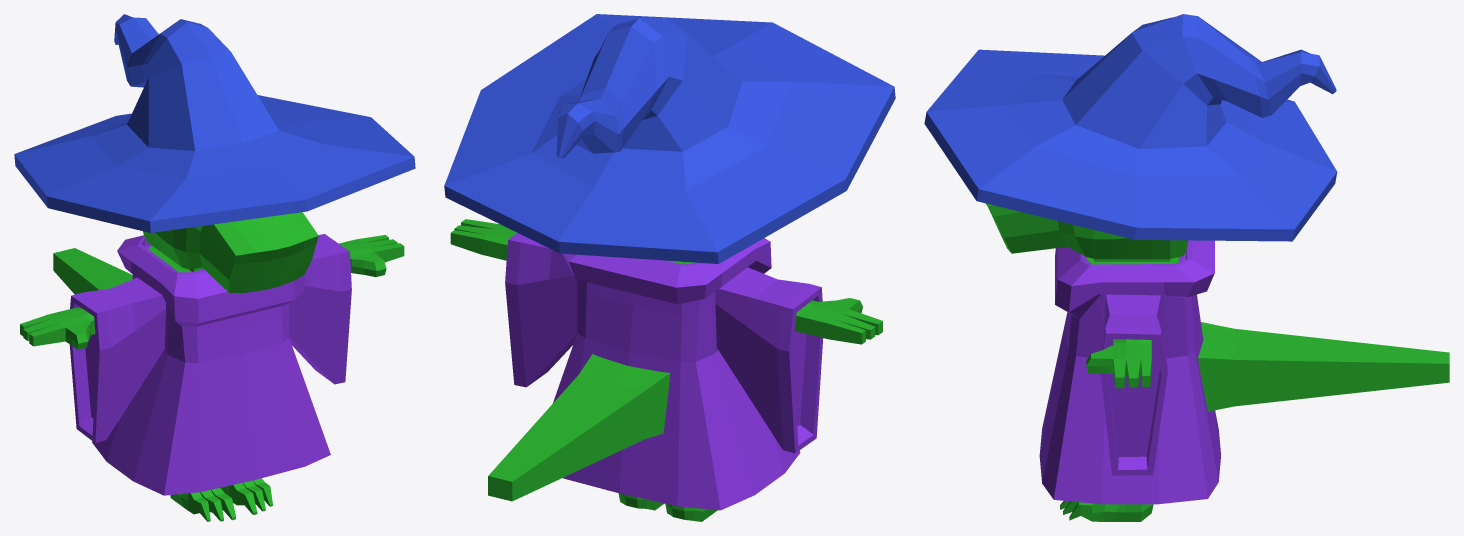
The model's file is LizardWizardV3.fbx.
3 renders of one model, left to right at view 1: azimuth 30°, elevation 25°; view 2: azimuth 150°, elevation 25°; view 3: azimuth 270°, elevation 25°, orthographic. The views are drawn at different scales.
Visible parts, largest first — view 1: robe, hat, lizzard; view 2: hat, robe, lizzard; view 3: hat, robe, lizzard.
Boxes of the visible parts, bbox=[...] form: robe: bbox=[69, 234, 351, 495]; hat: bbox=[14, 14, 415, 232]; lizzard: bbox=[20, 212, 404, 521]; hat: bbox=[444, 14, 895, 263]; robe: bbox=[505, 233, 823, 510]; lizzard: bbox=[450, 219, 882, 521]; hat: bbox=[924, 14, 1337, 241]; robe: bbox=[1039, 240, 1220, 504]; lizzard: bbox=[986, 203, 1449, 521].
Size of the model in its own units: 387 by 452 by 439.
